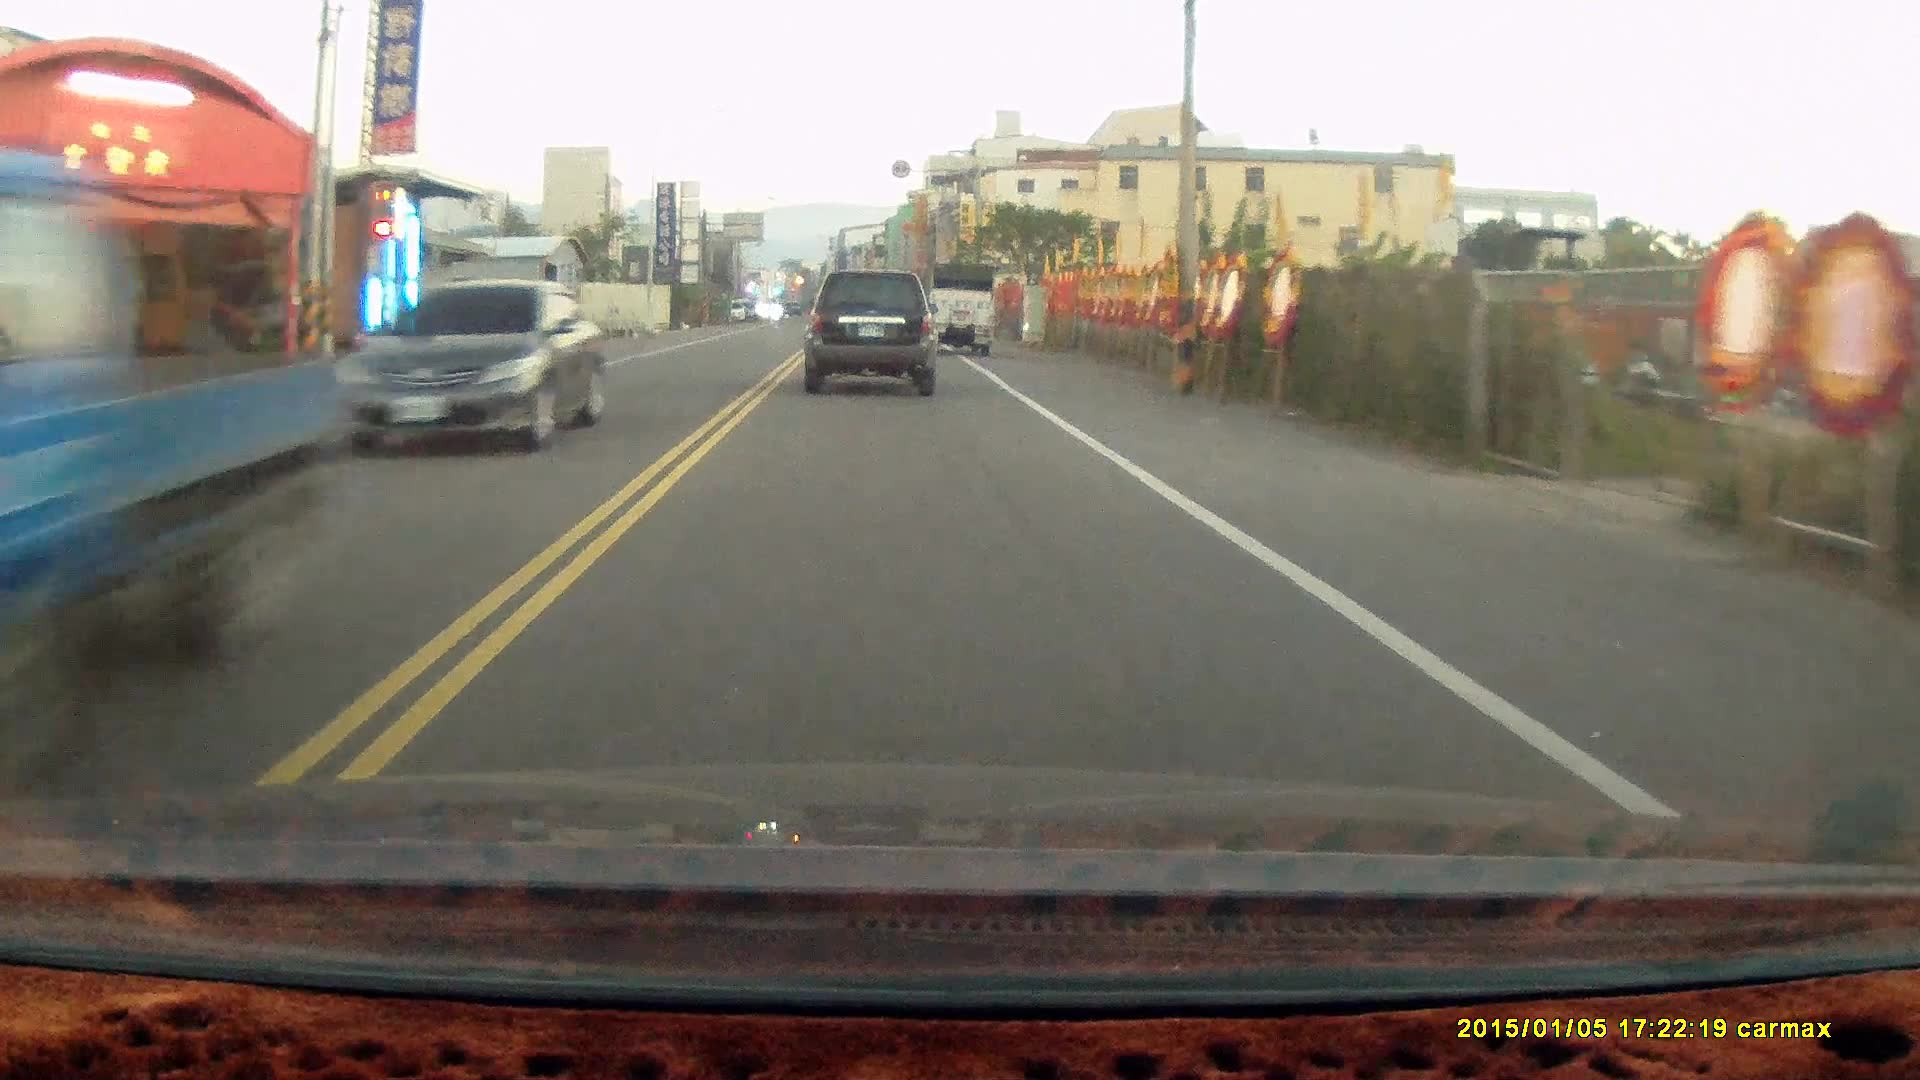vehicle: (1, 165, 375, 754), (355, 281, 612, 459), (802, 270, 938, 400), (926, 261, 1000, 355)
